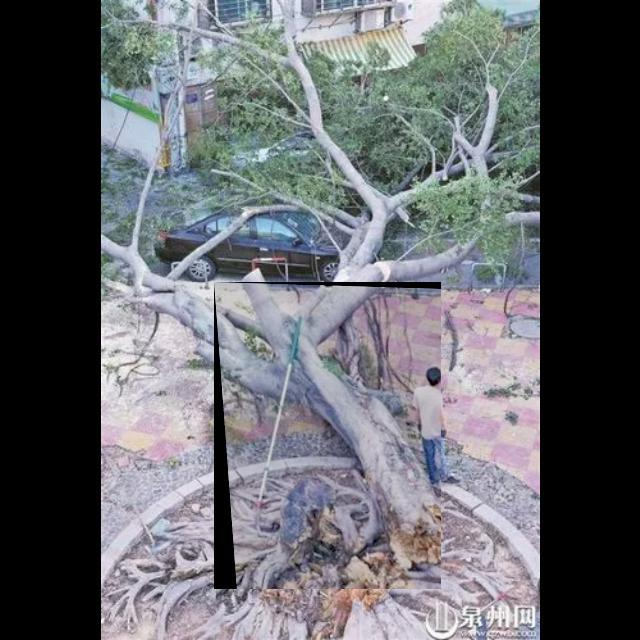fallen_tree: (214, 282, 442, 590)
